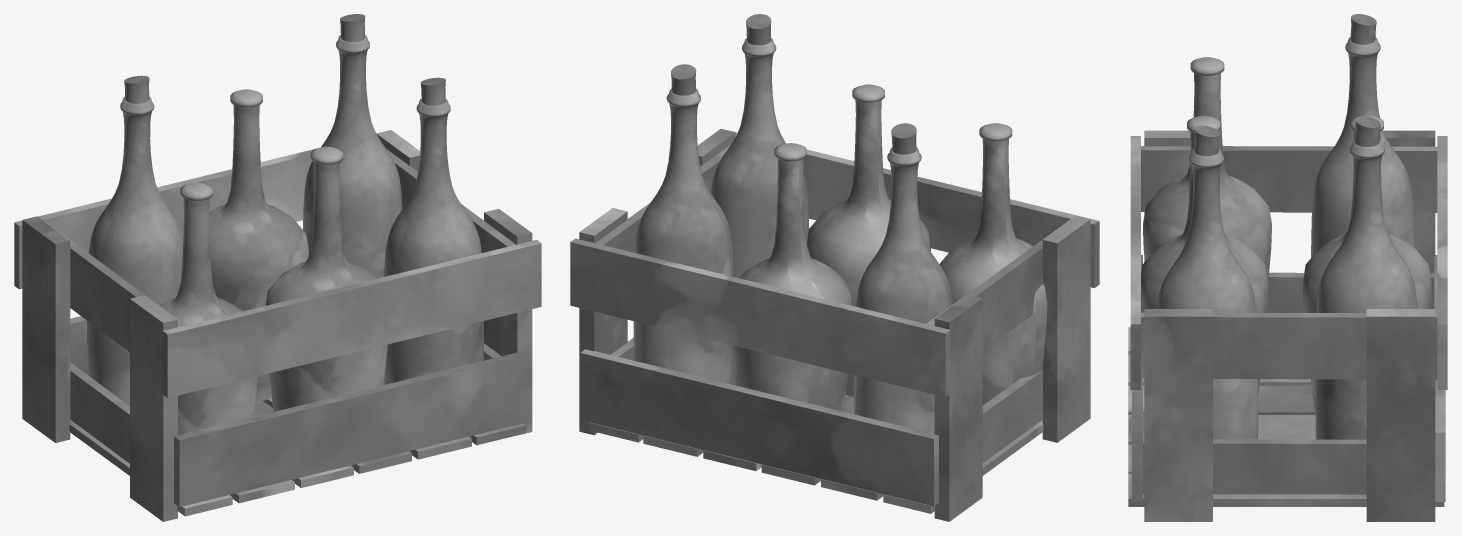
The model's file is SM_Crate_Bottles_01a.fbx.
The picture shows the model from 3 angles, left to right: view 1: azimuth 30°, elevation 25°; view 2: azimuth 150°, elevation 25°; view 3: azimuth 270°, elevation 25°; orthographic projection. The views are drawn at different scales.
Parts seen in each view (by area): view 1: SM_Crate_Bottles_01a_LOD0; view 2: SM_Crate_Bottles_01a_LOD0; view 3: SM_Crate_Bottles_01a_LOD0.
Boxes of the visible parts, x1,y1,x2,y2 form: SM_Crate_Bottles_01a_LOD0: (14, 14, 541, 521); SM_Crate_Bottles_01a_LOD0: (570, 14, 1099, 521); SM_Crate_Bottles_01a_LOD0: (1128, 14, 1447, 521).
Size of the model in its own units: 64.26 by 46 by 58.21.
